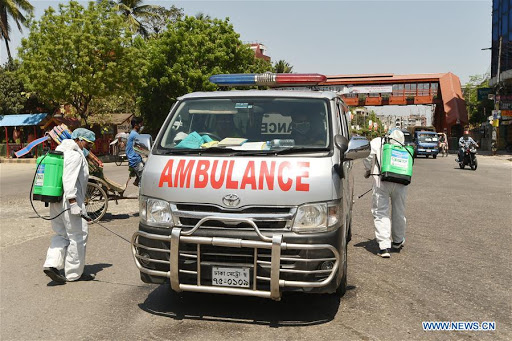ambulance: (131, 72, 372, 300)
motorbike: (454, 138, 481, 171)
policecar: (407, 125, 439, 159)
rickshaw: (44, 123, 139, 225), (112, 131, 128, 166), (437, 132, 448, 158)
